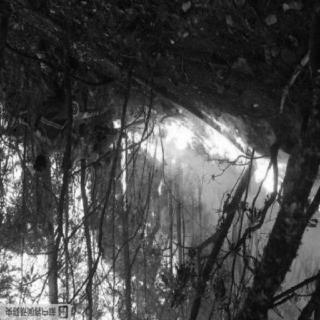Fire: (115, 119, 287, 199)
other: (8, 78, 116, 172)
